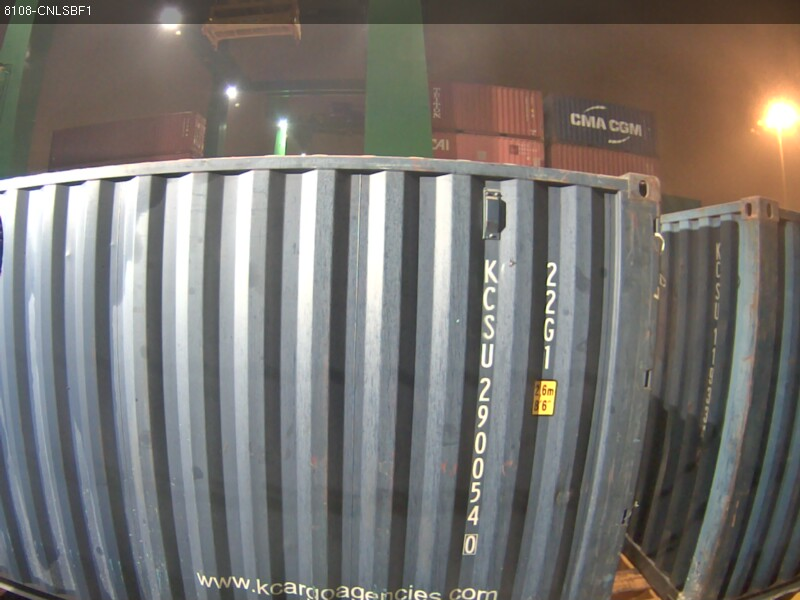container_no_door: (103, 149, 672, 569)
